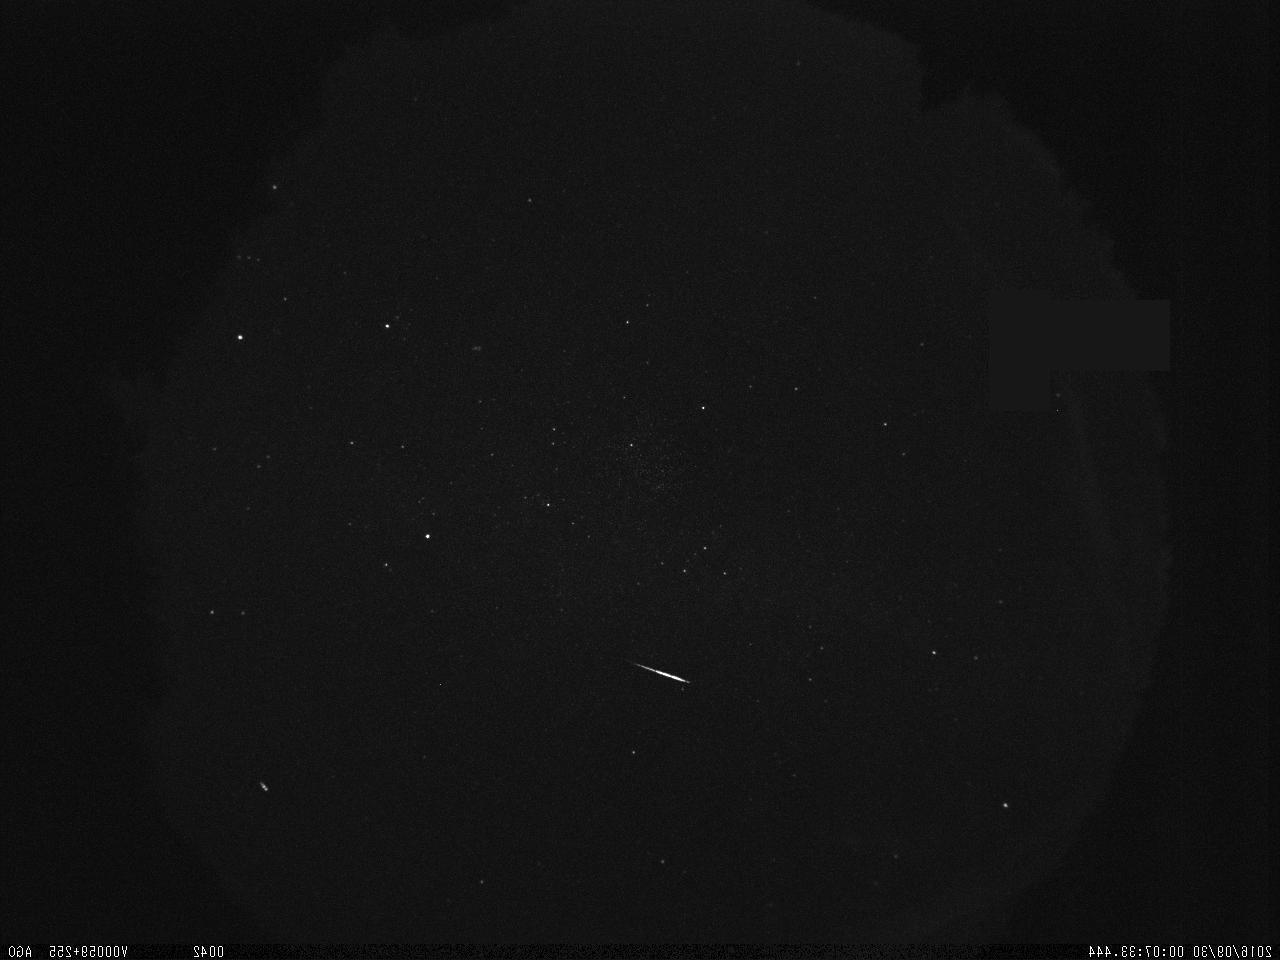meteor: (617, 651, 702, 689)
